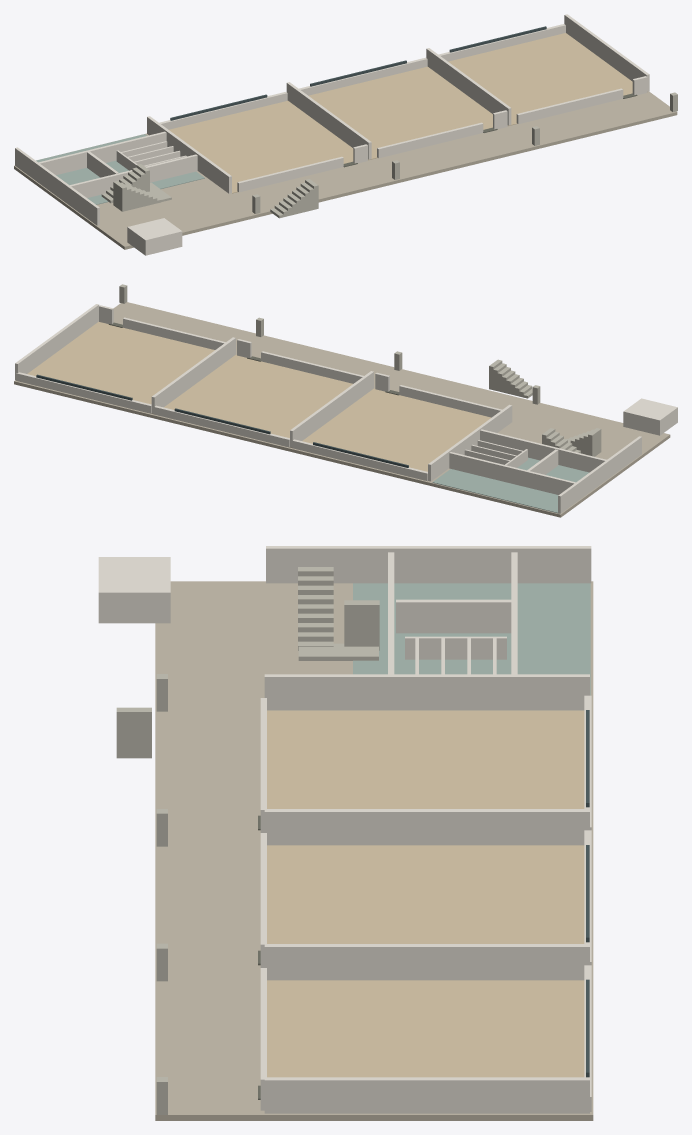
File: ai-school-floor-1.glb
3 renders of one model, top to bottom at view 1: azimuth 30°, elevation 25°; view 2: azimuth 150°, elevation 25°; view 3: azimuth 270°, elevation 25°, orthographic. The views are drawn at different scales.
Parts seen in each view (by area): view 1: d9c9aa, eee9df, c7bfae, c9c6b9, a9bbb3, 4e5e61; view 2: d9c9aa, eee9df, c7bfae, c9c6b9, a9bbb3, 4e5e61; view 3: d9c9aa, eee9df, c7bfae, a9bbb3, c9c6b9, 4e5e61.
Part boxes in pixels (left/top/right/bottom): d9c9aa: left=169, top=33, right=647, bottom=193; eee9df: left=15, top=14, right=649, bottom=255; c7bfae: left=14, top=91, right=677, bottom=249; c9c6b9: left=101, top=92, right=677, bottom=218; a9bbb3: left=36, top=134, right=204, bottom=204; 4e5e61: left=170, top=26, right=546, bottom=120; d9c9aa: left=27, top=321, right=491, bottom=481; eee9df: left=15, top=304, right=677, bottom=513; c7bfae: left=14, top=302, right=670, bottom=517; c9c6b9: left=119, top=284, right=601, bottom=456; a9bbb3: left=432, top=457, right=589, bottom=513; 4e5e61: left=36, top=374, right=408, bottom=467; d9c9aa: left=267, top=710, right=584, bottom=1077; eee9df: left=98, top=546, right=591, bottom=1113; c7bfae: left=155, top=581, right=593, bottom=1120; a9bbb3: left=353, top=583, right=590, bottom=695; c9c6b9: left=116, top=567, right=379, bottom=1114; 4e5e61: left=586, top=710, right=589, bottom=1077.
Size of the model in its own units: 35.66 by 1.65 by 13.95.
